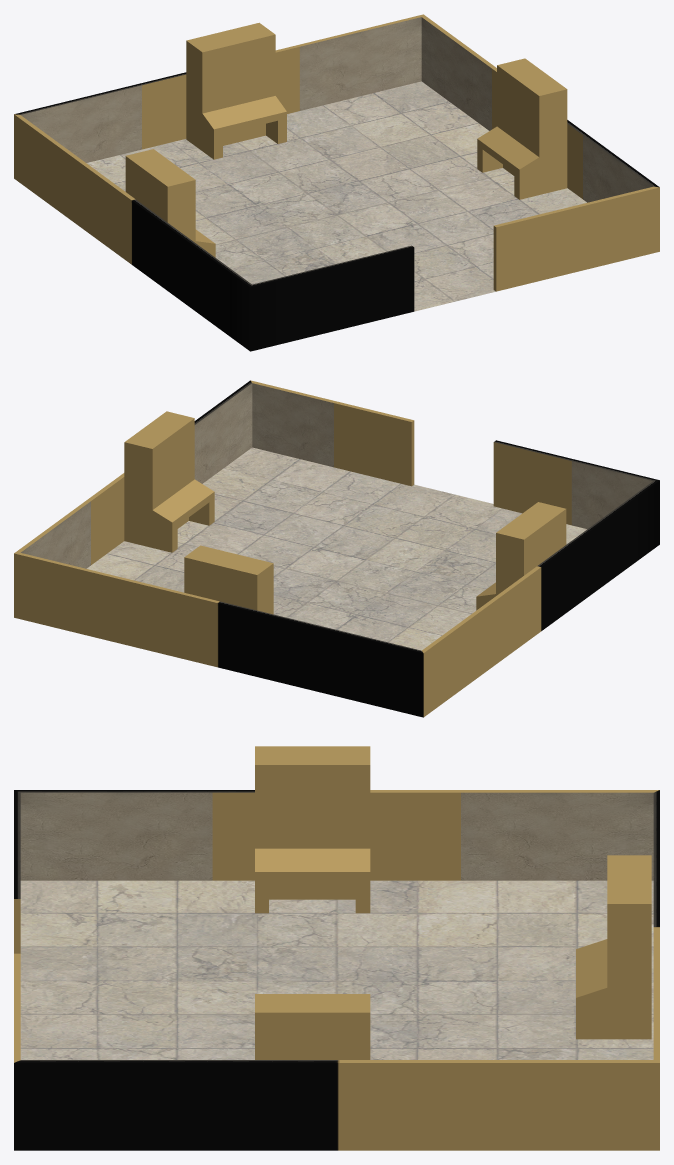
Rendered from ServerRoom.fbx.
3 views of the same model, one above another, from view 1: azimuth 30°, elevation 25°; view 2: azimuth 150°, elevation 25°; view 3: azimuth 270°, elevation 25° (orthographic). The views are drawn at different scales.
Parts seen in each view (by area): view 1: ServerRoom, Server, Server2, Server1; view 2: ServerRoom, Server2, Server, Server1; view 3: ServerRoom, Server1, Server, Server2.
Boxes of the visible parts, bbox=[...] form: ServerRoom: bbox=[14, 14, 659, 351]; Server: bbox=[186, 22, 286, 159]; Server2: bbox=[477, 58, 567, 199]; Server1: bbox=[125, 149, 215, 257]; ServerRoom: bbox=[14, 380, 659, 717]; Server2: bbox=[124, 411, 214, 552]; Server: bbox=[184, 545, 273, 614]; Server1: bbox=[476, 502, 566, 610]; ServerRoom: bbox=[14, 790, 659, 1150]; Server1: bbox=[255, 746, 370, 913]; Server: bbox=[576, 855, 651, 1039]; Server2: bbox=[255, 994, 370, 1059].
Bounding box in the file's own units: 10 × 2.31 × 10.
1 material, 1 textured.
